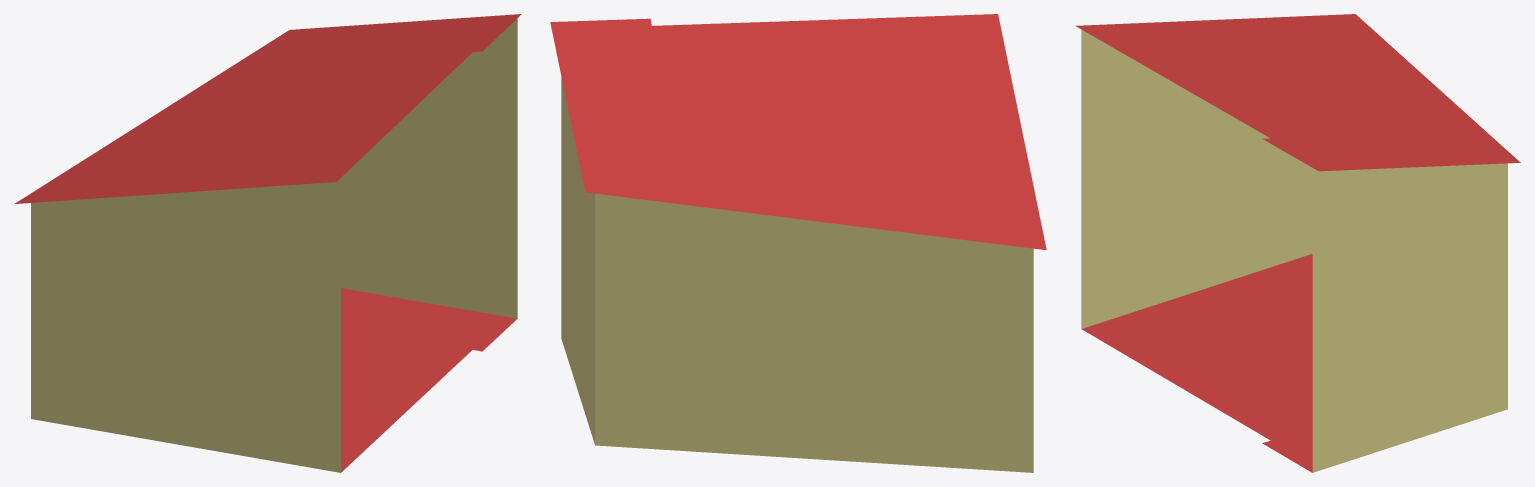
3 renders of one model, left to right at view 1: azimuth 30°, elevation 25°; view 2: azimuth 150°, elevation 25°; view 3: azimuth 270°, elevation 25°, orthographic. The views are drawn at different scales.
Bounding box in the file's own units: 13.36 × 10.38 × 7.84.
